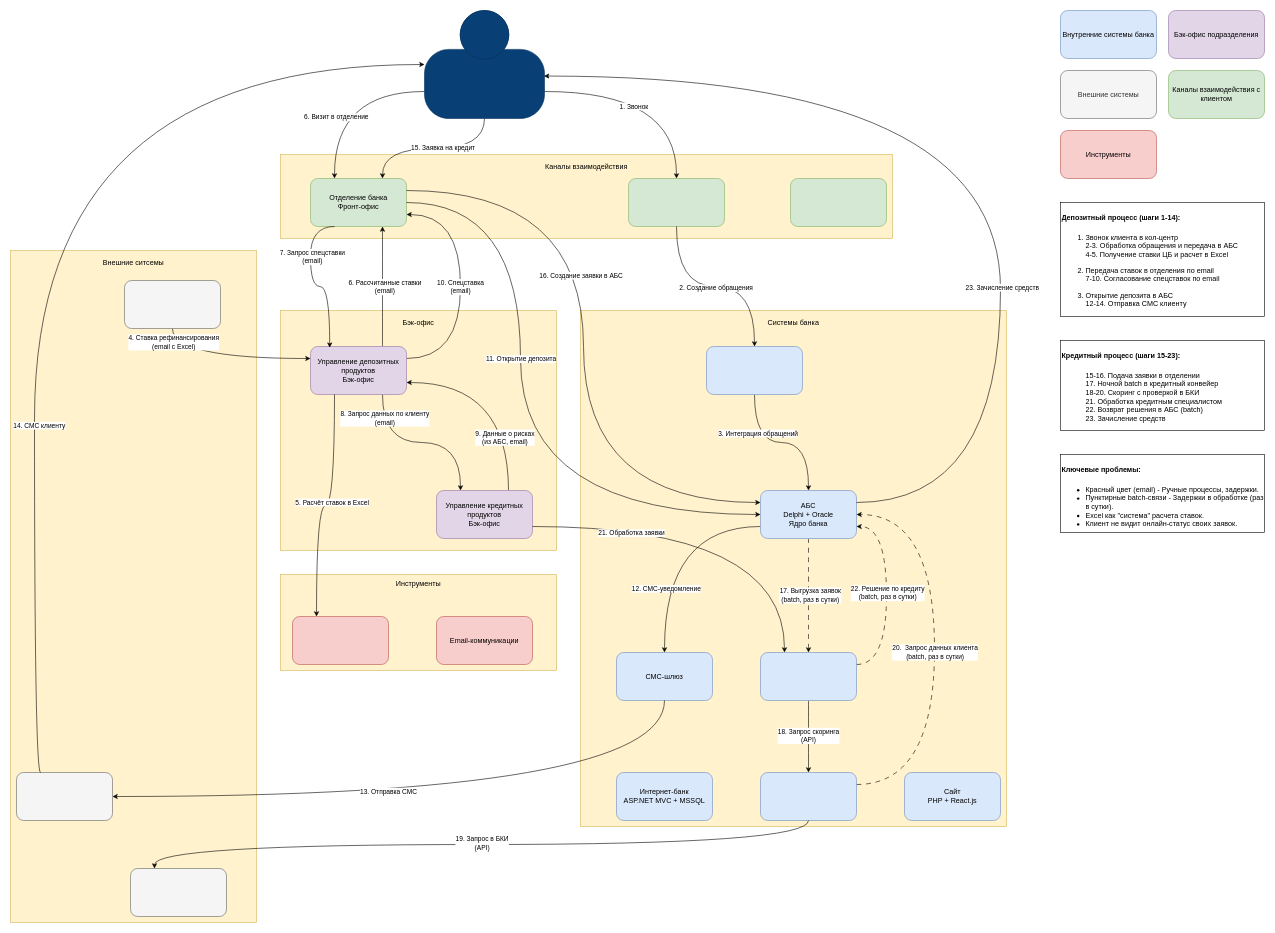
This 1275x933 diagram has some shape labels left out. The centre of each missing label's shape, as x and y in pixels:
Excel-файл: point 340,640
Бюро кредитных историй: point 178,892
Клиент [Person] Физическое лицо.: point 484,64
Кол-центр банка: point 676,202
Кредитный конвеер Camunda + Oracle: point 808,676
Партнёрский кол-центр: point 838,202
Система кол-центра React + Java + PostgreSQL: point 754,370
Система скоринга Python/Flask + PostgreSQL: point 808,796
Телеком-оператор: point 64,796
Центральный банк РФ: point 172,304
